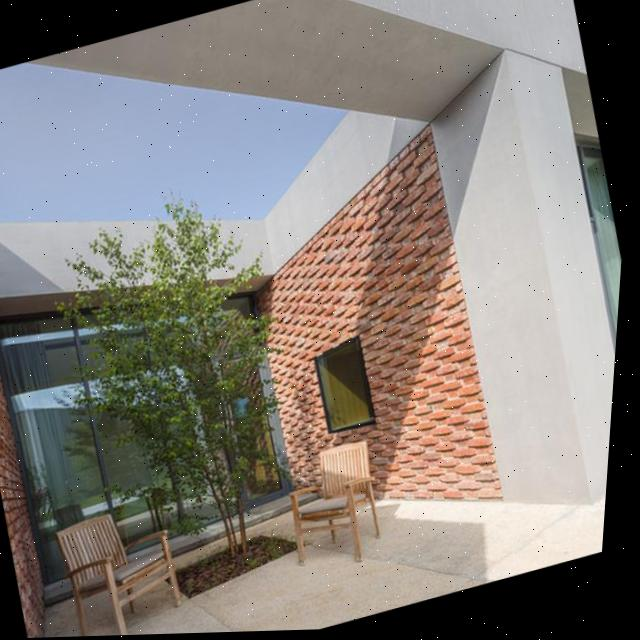building: (0, 37, 636, 638)
